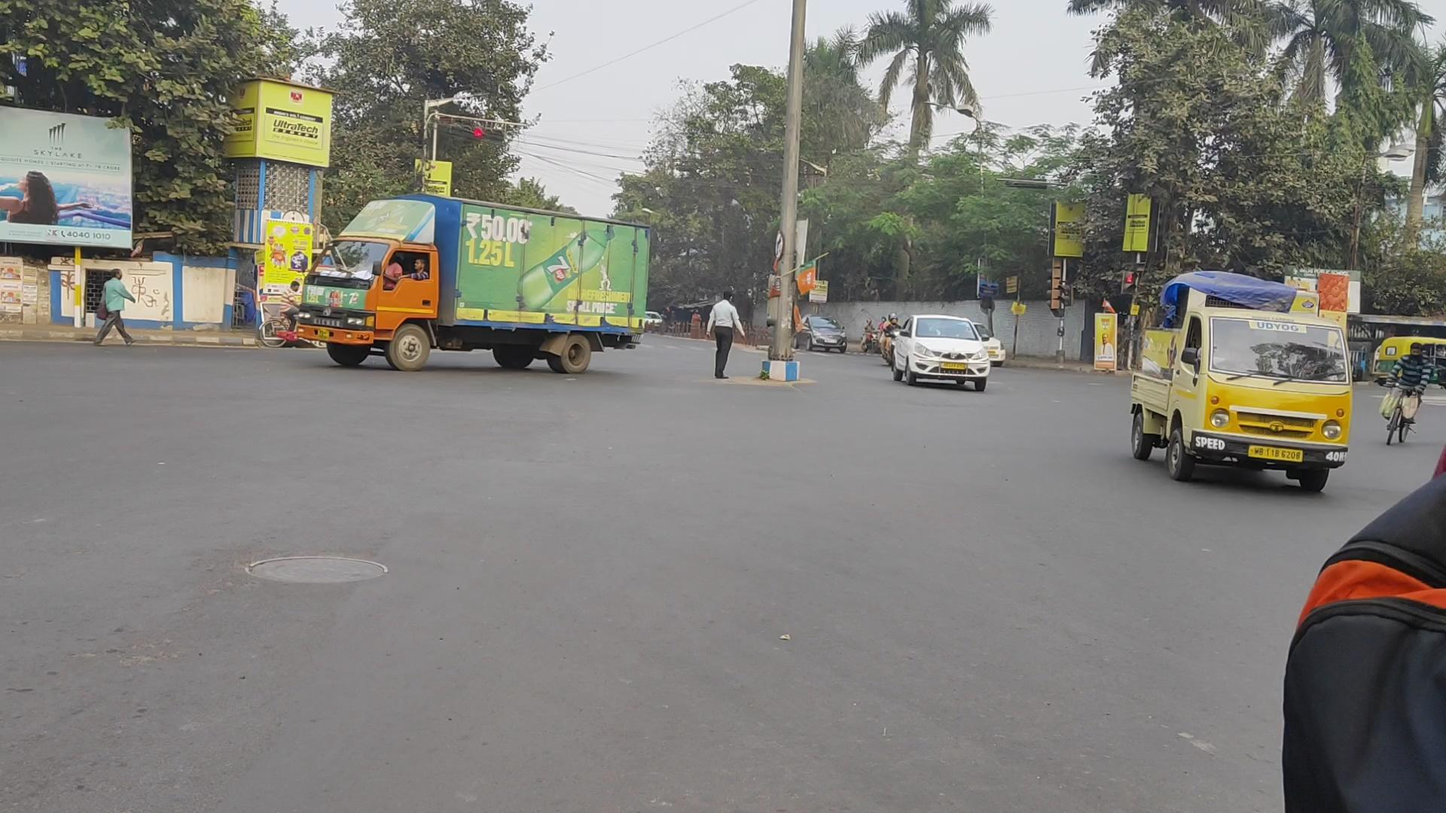Auto: (1377, 336, 1446, 389)
bike: (258, 280, 339, 349), (1381, 343, 1431, 446), (880, 311, 903, 369), (859, 318, 882, 355)
car: (891, 314, 990, 391), (792, 314, 848, 354)
truck: (295, 194, 651, 373)
van: (1130, 271, 1352, 492)
